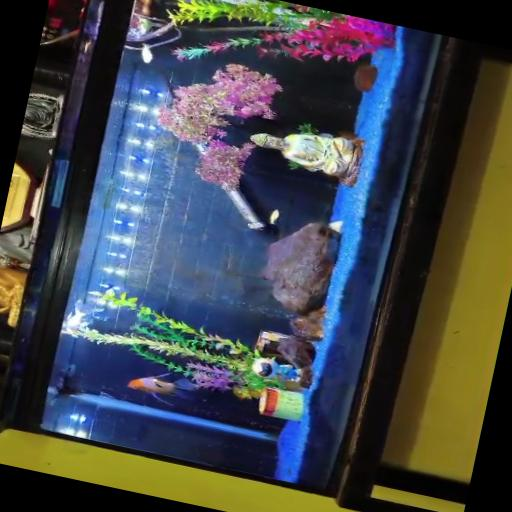Fish: (128, 372, 195, 405), (65, 300, 104, 329), (233, 386, 262, 398), (270, 209, 279, 223)
